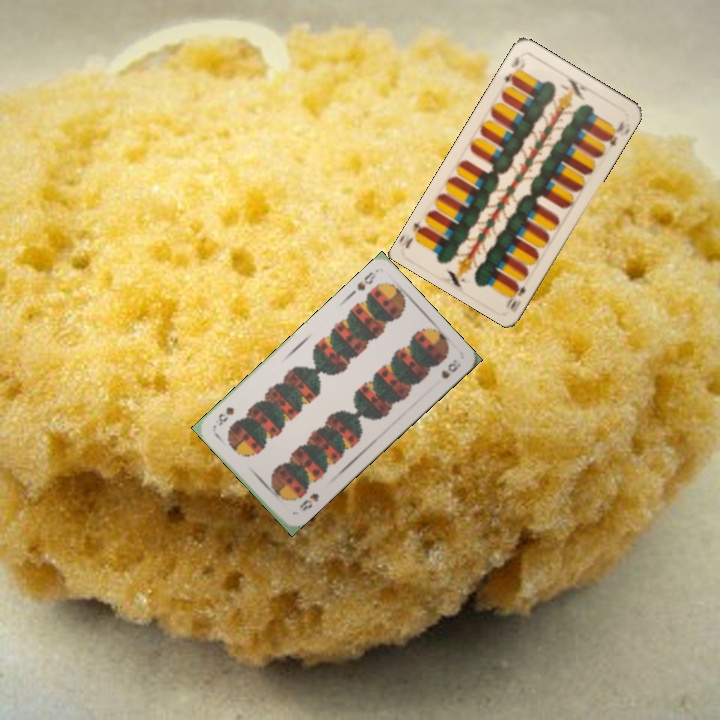E10: (500, 51, 528, 87), (502, 281, 528, 312)
S8: (353, 267, 379, 293), (295, 489, 321, 514)
